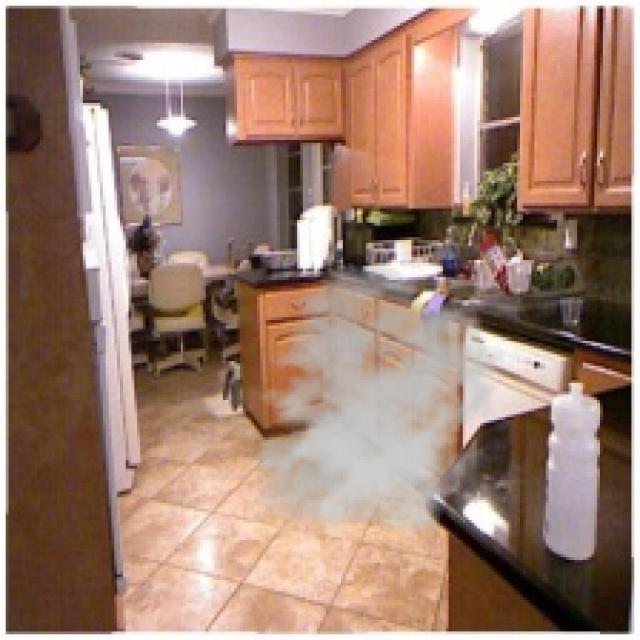smoke: (240, 263, 506, 546)
